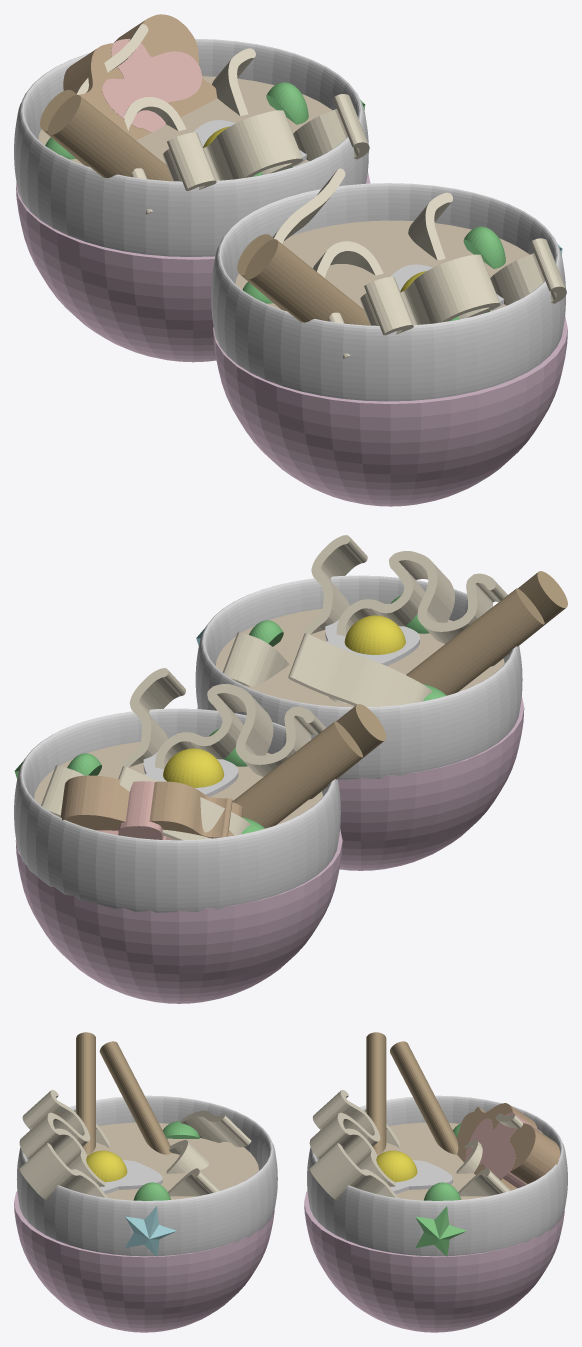
The model's file is Isla M. Ramen and lunch tray.glb.
3 renders of one model, top to bottom at view 1: azimuth 30°, elevation 25°; view 2: azimuth 150°, elevation 25°; view 3: azimuth 270°, elevation 25°, orthographic. The views are drawn at different scales.
Parts seen in each view (by area): view 1: Mesh_Mesh_head_geo.001_lambert2SG.001; view 2: Mesh_Mesh_head_geo.001_lambert2SG.001; view 3: Mesh_Mesh_head_geo.001_lambert2SG.001.
Part boxes in pixels (x1=…): Mesh_Mesh_head_geo.001_lambert2SG.001: x1=14, y1=14, x2=567, y2=506; Mesh_Mesh_head_geo.001_lambert2SG.001: x1=14, y1=535, x2=567, y2=1003; Mesh_Mesh_head_geo.001_lambert2SG.001: x1=14, y1=1032, x2=567, y2=1332.
Bounding box in the file's own units: 0.0771 × 0.065 × 0.1401.
